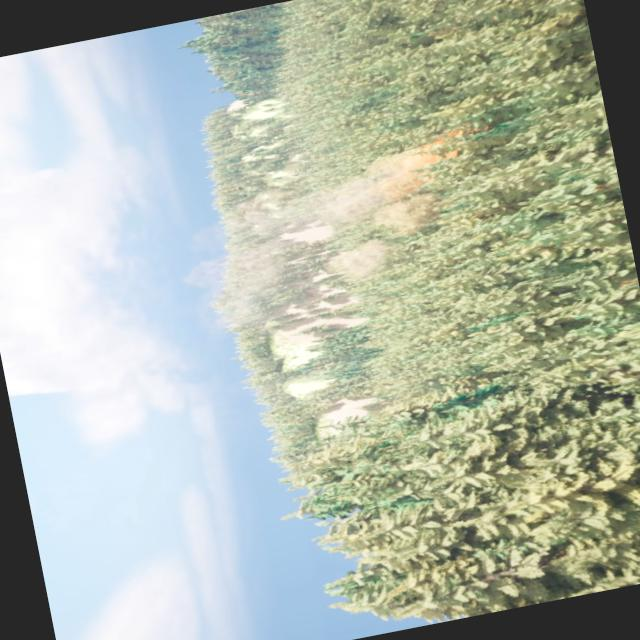smoke: (170, 138, 464, 310)
